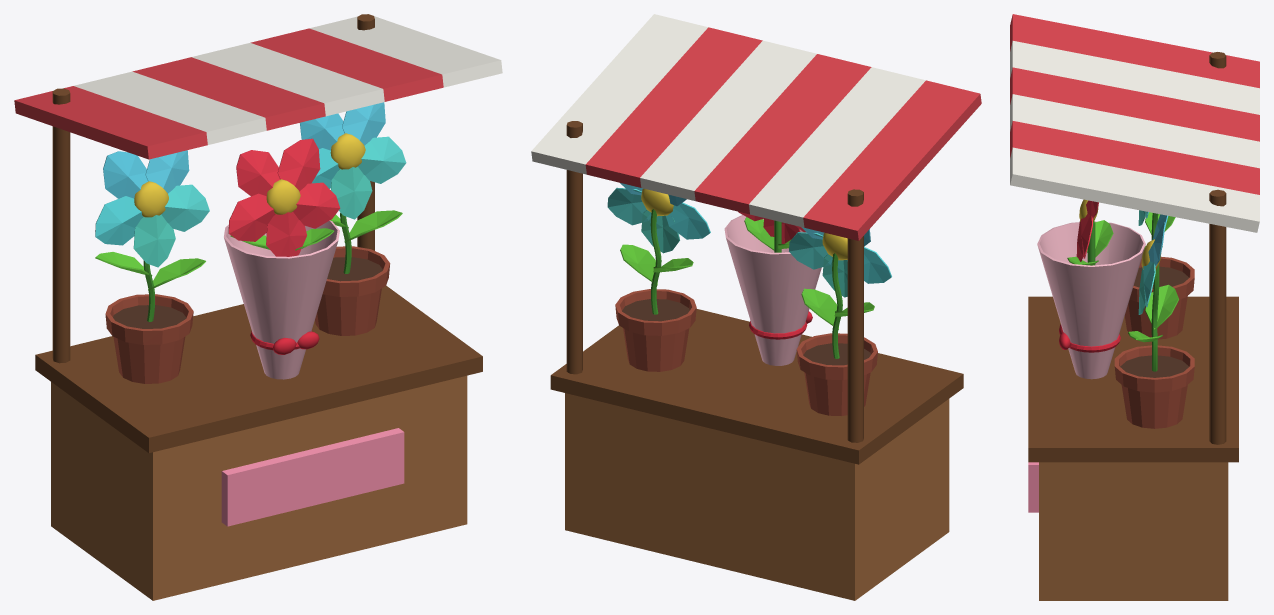
Rendered from Pot_L10.fbx.
3 renders of one model, left to right at view 1: azimuth 30°, elevation 25°; view 2: azimuth 150°, elevation 25°; view 3: azimuth 270°, elevation 25°, orthographic. The views are drawn at different scales.
Visible parts, largest first — view 1: L10_Counter, L10_CounterTop, L10_Sign, L10_C_L8_Wrap001, L10_Awning_1, L10_Awning_3, L10_Awning_5, L10_Awning_2, L10_Awning_4, L10_Awning_6, L10_A_L6_Pot001, L10_Post_L (+23 smaller); view 2: L10_Counter, L10_CounterTop, L10_Awning_1, L10_Awning_3, L10_Awning_5, L10_Awning_2, L10_Awning_4, L10_Awning_6, L10_C_L8_Wrap001, L10_B_L6_Pot001, L10_Post_L, L10_Post_R (+14 smaller); view 3: L10_Counter, L10_CounterTop, L10_C_L8_Wrap001, L10_Awning_6, L10_Awning_4, L10_Awning_3, L10_Awning_2, L10_Awning_5, L10_Awning_1, L10_B_L6_Pot001, L10_Post_R, L10_A_L6_Pot001 (+10 smaller).
Part boxes in pixels (<box>): L10_Counter: <box>51,375,467,600</box>; L10_CounterTop: <box>35,285,482,452</box>; L10_Sign: <box>221,428,404,526</box>; L10_C_L8_Wrap001: <box>224,220,339,379</box>; L10_Awning_1: <box>14,86,207,159</box>; L10_Awning_3: <box>132,57,325,130</box>; L10_Awning_5: <box>250,28,443,101</box>; L10_Awning_2: <box>74,71,266,144</box>; L10_Awning_4: <box>191,43,384,116</box>; L10_Awning_6: <box>309,16,502,87</box>; L10_A_L6_Pot001: <box>105,294,193,383</box>; L10_Post_L: <box>52,88,70,363</box>; L10_Counter: <box>565,393,949,600</box>; L10_CounterTop: <box>550,309,963,464</box>; L10_Awning_1: <box>803,80,981,240</box>; L10_Awning_3: <box>694,54,871,214</box>; L10_Awning_5: <box>585,27,762,187</box>; L10_Awning_2: <box>749,67,925,227</box>; L10_Awning_4: <box>640,40,816,200</box>; L10_Awning_6: <box>531,14,707,174</box>; L10_C_L8_Wrap001: <box>724,215,821,365</box>; L10_B_L6_Pot001: <box>615,289,696,371</box>; L10_Post_L: <box>847,189,863,442</box>; L10_Post_R: <box>566,121,582,374</box>; L10_Counter: <box>1039,462,1228,600</box>; L10_CounterTop: <box>1028,296,1238,462</box>; L10_C_L8_Wrap001: <box>1037,221,1145,379</box>; L10_Awning_6: <box>1010,147,1259,232</box>; L10_Awning_4: <box>1010,94,1259,168</box>; L10_Awning_3: <box>1010,67,1259,141</box>; L10_Awning_2: <box>1010,41,1259,114</box>; L10_Awning_5: <box>1010,121,1259,194</box>; L10_Awning_1: <box>1010,14,1259,88</box>; L10_B_L6_Pot001: <box>1114,345,1194,428</box>; L10_Post_R: <box>1209,189,1226,444</box>; L10_A_L6_Pot001: <box>1124,256,1194,339</box>.
Bounding box in the file's own units: 36 × 45.67 × 23.73.
